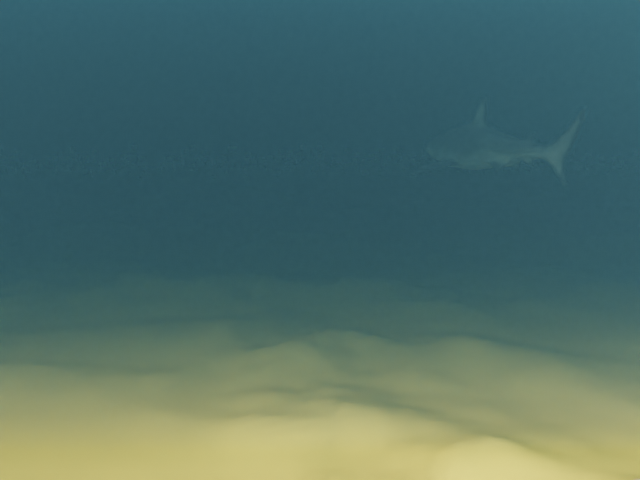Carribean Shark.001: (410, 97, 585, 185)
